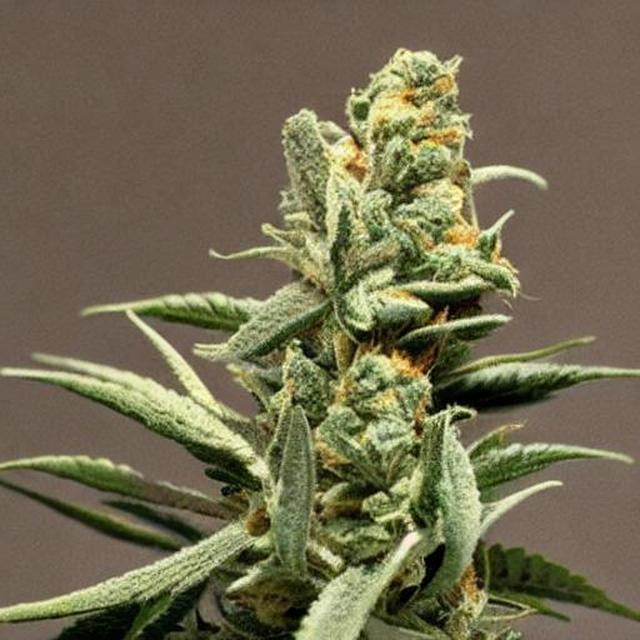Marijuana Plant: (160, 10, 560, 640)
